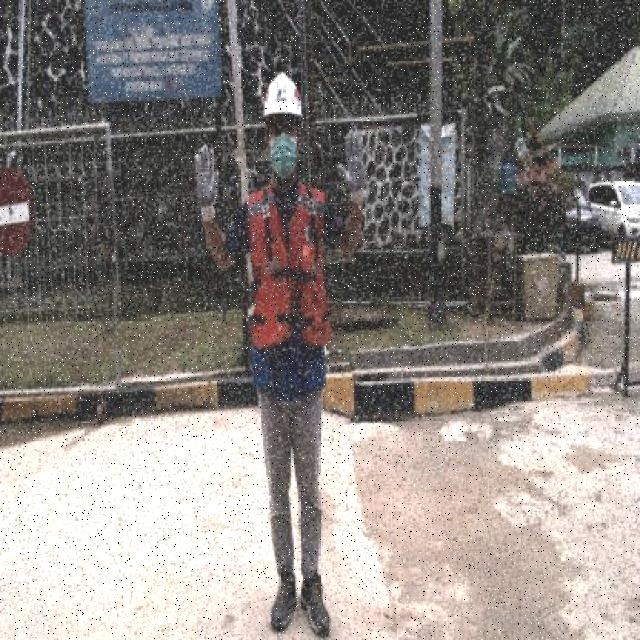Boots: (298, 570, 332, 638), (270, 568, 298, 630)
Gloves: (336, 128, 369, 208), (193, 144, 219, 225)
Helmet: (261, 69, 304, 122)
Mask: (250, 240, 332, 351)
